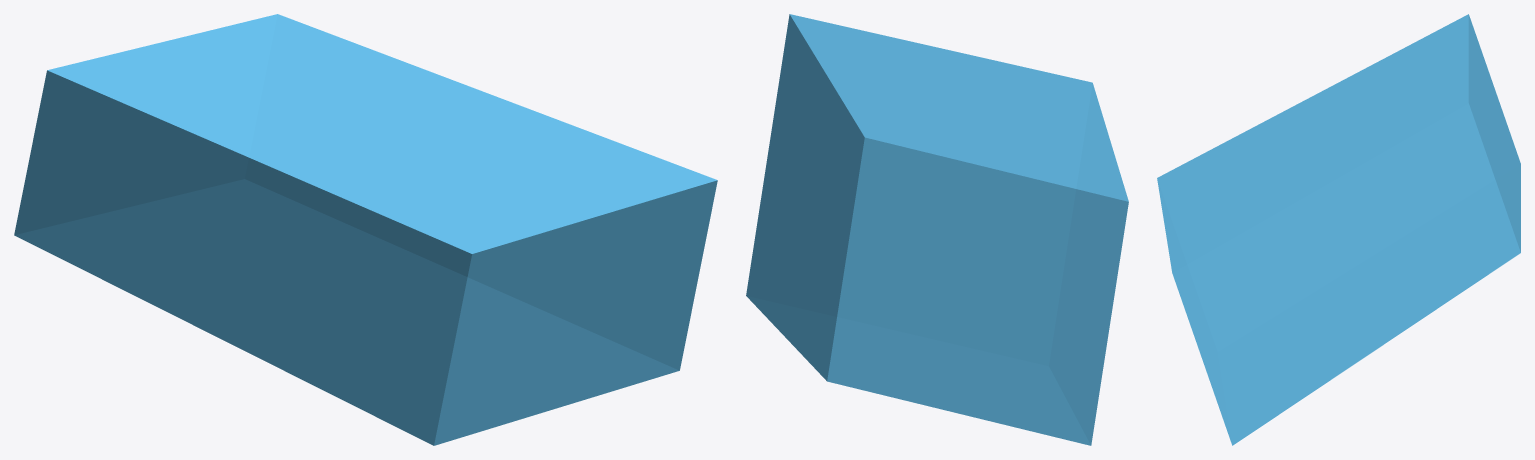
The model's file is Event_421115418_HBrechit_30.fbx.
3 renders of one model, left to right at view 1: azimuth 30°, elevation 25°; view 2: azimuth 150°, elevation 25°; view 3: azimuth 270°, elevation 25°, orthographic. The views are drawn at different scales.
Visible parts, largest first — view 1: Model; view 2: Model; view 3: Model.
Boxes of the visible parts, left/top/right/bottom form: Model: left=14, top=14, right=717, bottom=445; Model: left=746, top=14, right=1128, bottom=445; Model: left=1157, top=14, right=1520, bottom=445.
Bounding box in the file's own units: 1.03 × 0.6389 × 0.8433.
